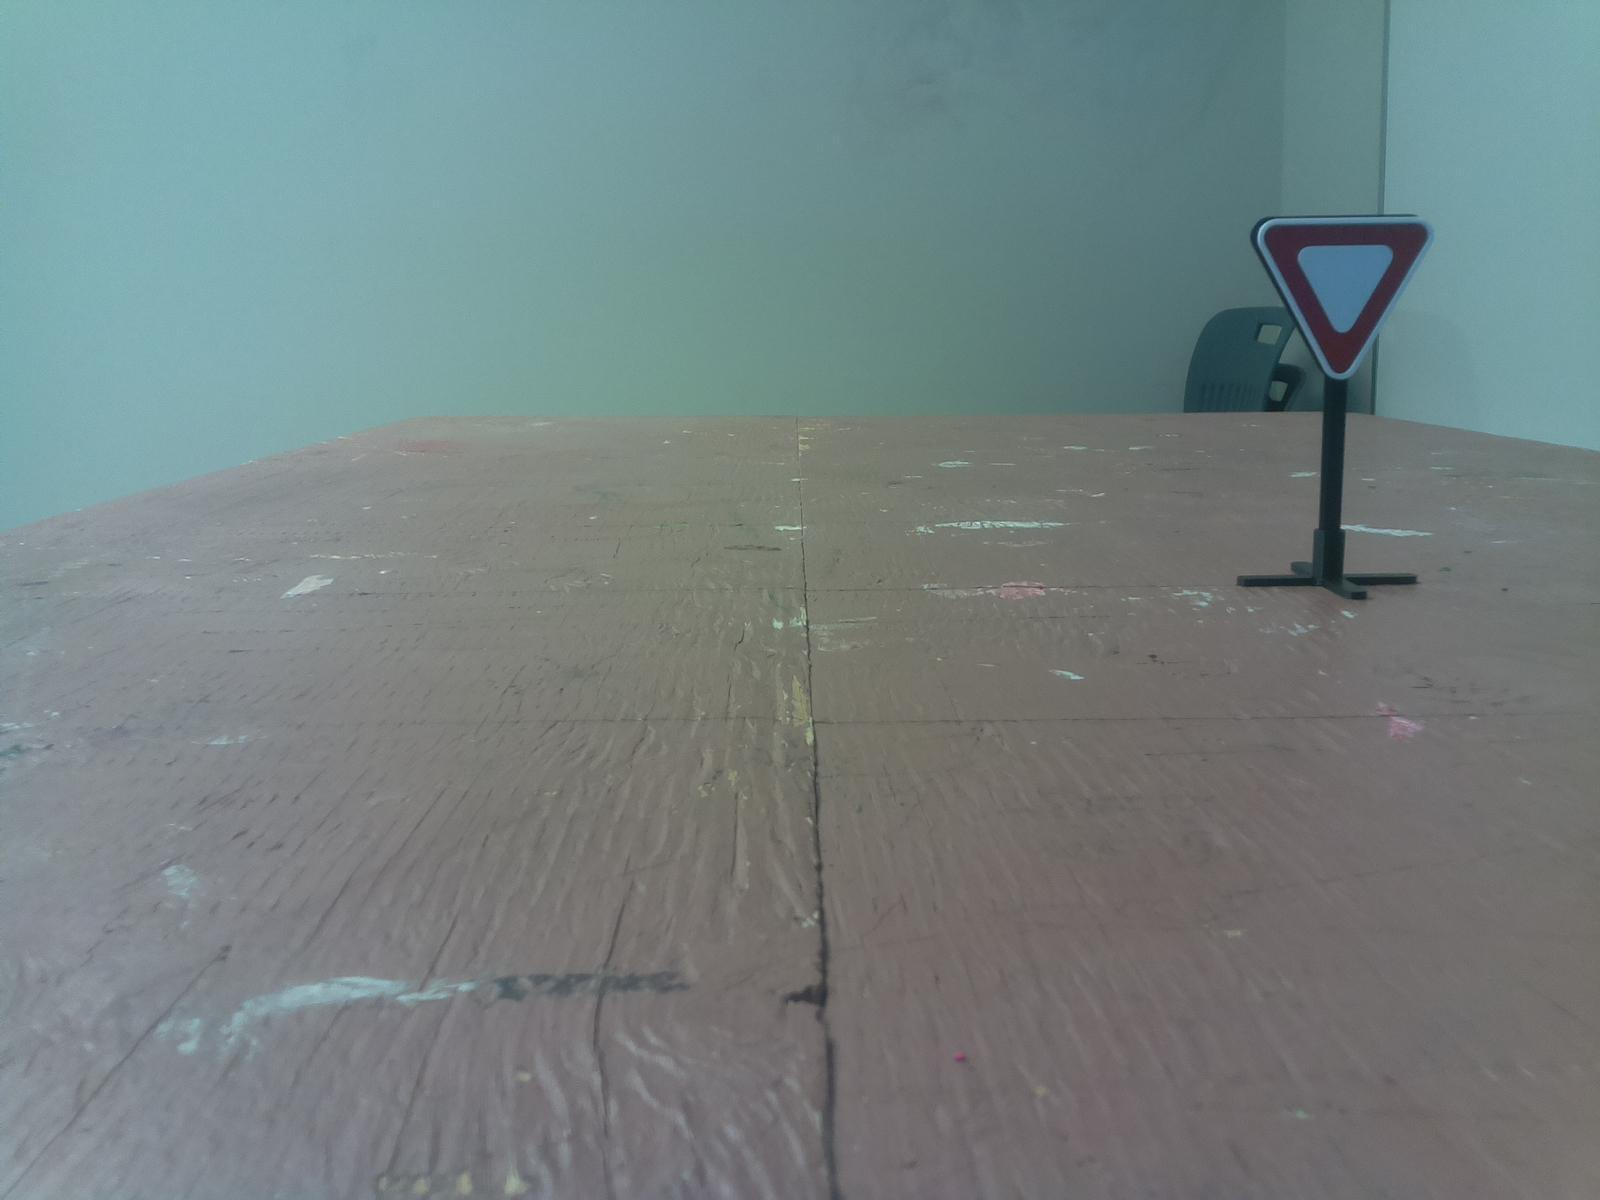sign_yield: (1235, 207, 1450, 387)
